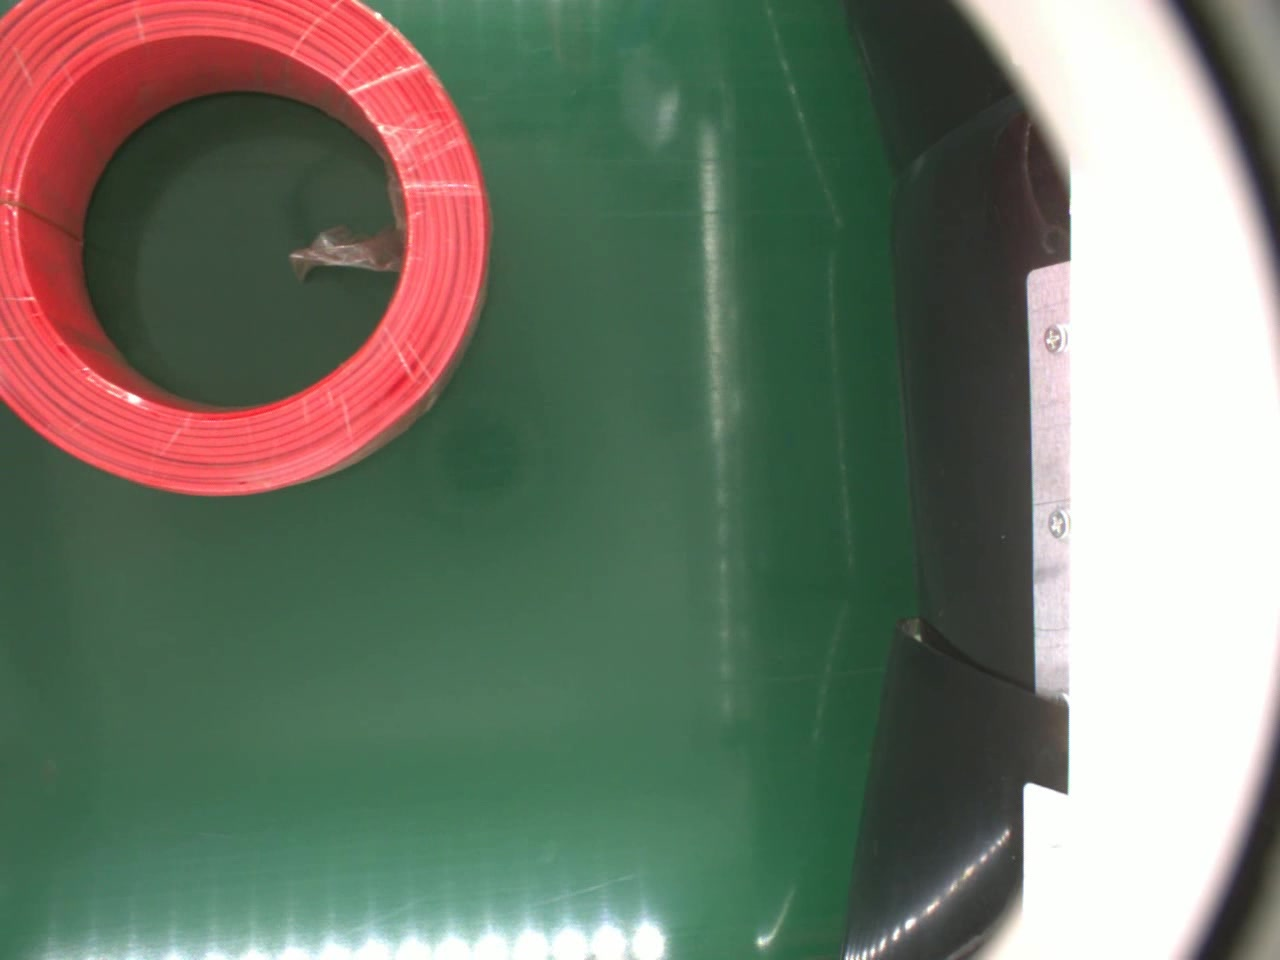red: (0, 0, 492, 501)
